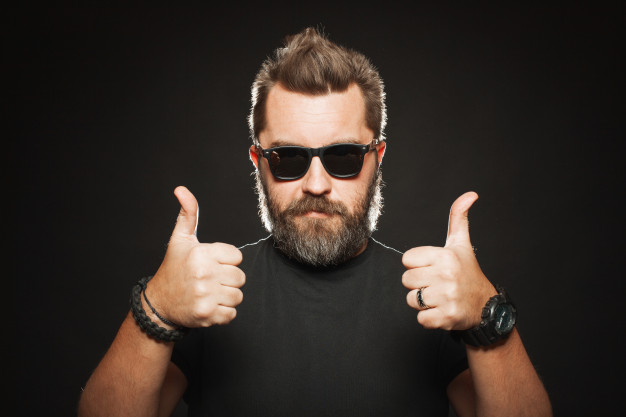thumbsup: (400, 190, 480, 330), (171, 185, 246, 325)
